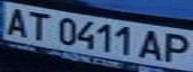0: (51, 15, 78, 46)
1: (112, 24, 136, 56), (93, 20, 115, 53)
4: (75, 18, 96, 51)
A: (136, 27, 169, 62), (0, 4, 33, 38)
P: (157, 30, 193, 64)
T: (24, 8, 54, 41)
